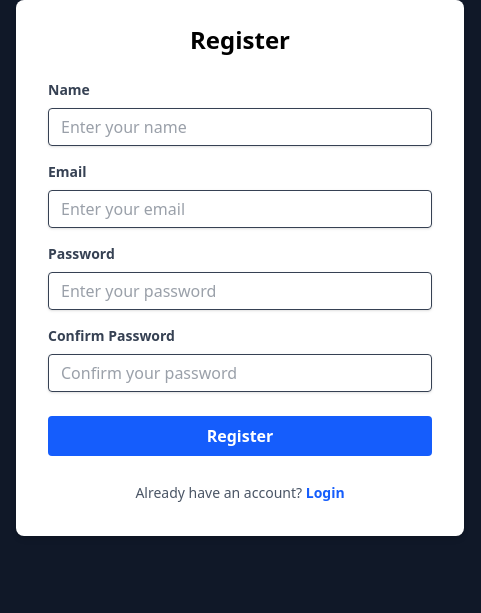
Test: RegisterForm › validation › should show error for password without numbers
The image size is (481, 613).
Type "Test User" into the field labelled "Name" at (240, 127), box [48,108,432,146]
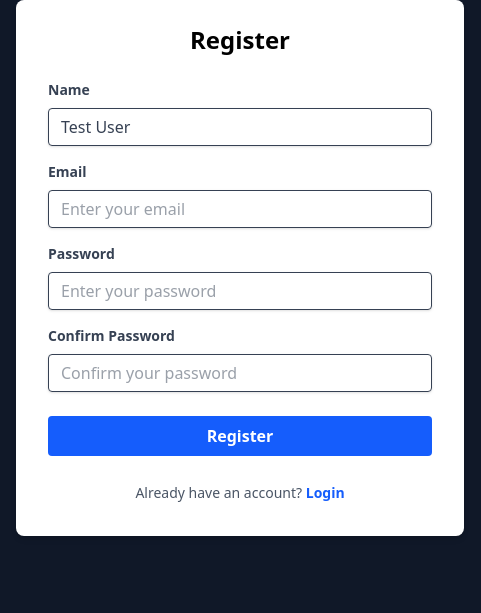
Type "test@example.com" into the field labelled "Email" at (240, 209), box [48,190,432,228]
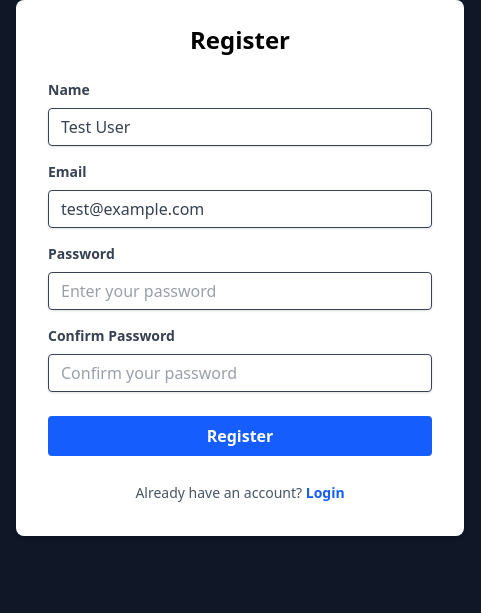
Type "Password" into the password field labelled "Password" at (240, 291), box [48,272,432,310]
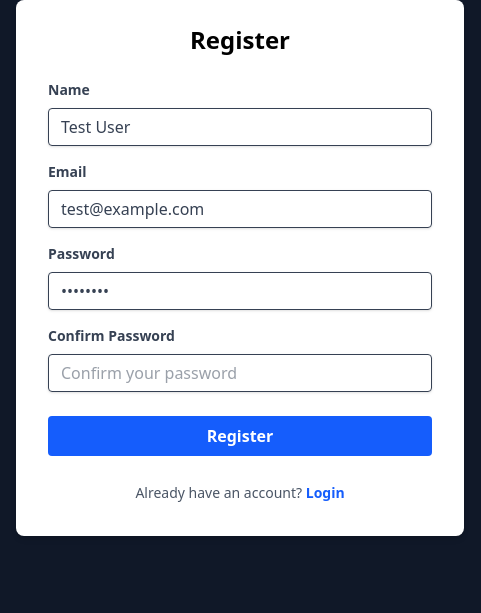
Type "Password" into the password field labelled "Confirm Password" at (240, 373), box [48,354,432,392]
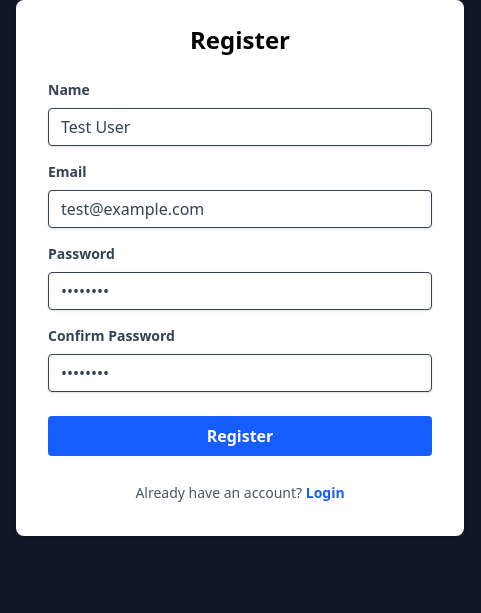
Click the button "Register" at (240, 436), box [48,416,432,456]
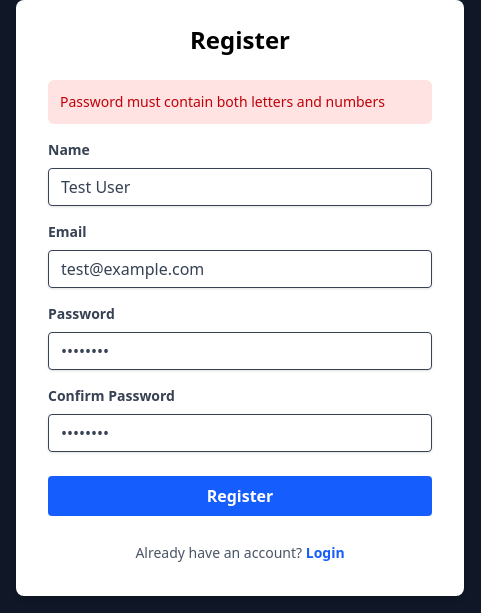
Check: the text "Password must contain both letters and numbers" is shown, box [48,80,432,124]
